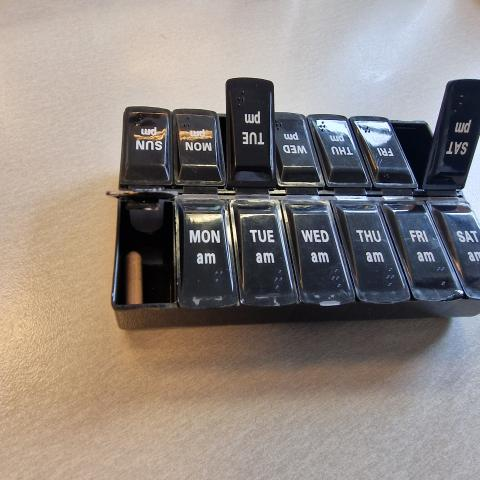Open: (106, 192, 176, 304)
